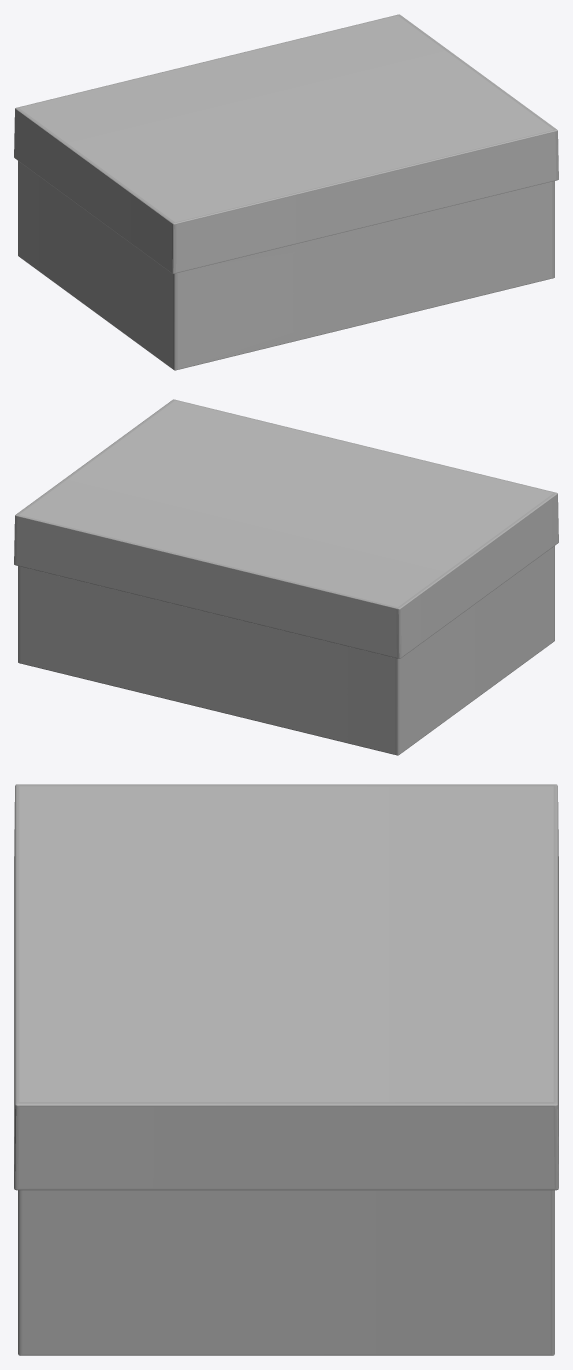
File: White Shoebox.fbx
The picture shows the model from 3 angles, top to bottom: view 1: azimuth 30°, elevation 25°; view 2: azimuth 150°, elevation 25°; view 3: azimuth 270°, elevation 25°; orthographic projection. The views are drawn at different scales.
Visible parts, largest first — view 1: White Shoebox; view 2: White Shoebox; view 3: White Shoebox.
Boxes of the visible parts, x1,y1,x2,y2 form: White Shoebox: (14, 14, 558, 370); White Shoebox: (14, 399, 558, 755); White Shoebox: (14, 784, 558, 1355).
Bounding box in the file's own units: 95.2 × 186 × 260.
Materials: 1 (1 with a texture image).
